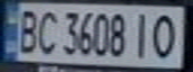0: (93, 9, 112, 57)
3: (57, 8, 81, 56)
6: (75, 8, 96, 56)
8: (109, 9, 130, 58)
B: (12, 6, 42, 55)
C: (33, 7, 60, 55)
I: (127, 10, 157, 58)
O: (148, 10, 184, 60)
